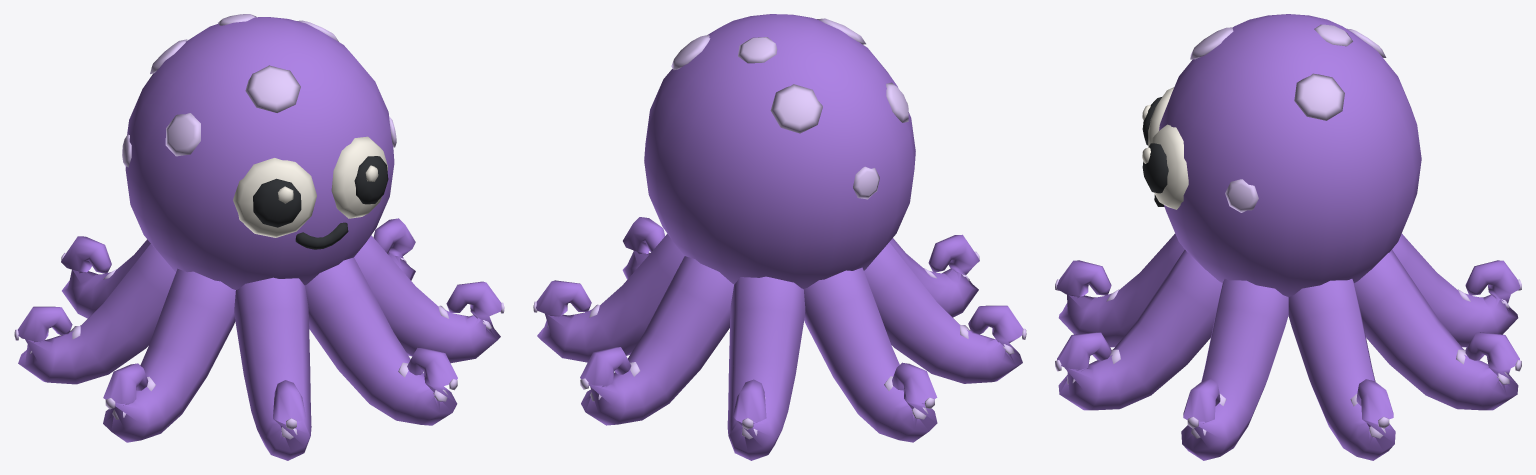
The model's file is cute-octopus-pet.glb.
3 views of the same model, side by side, from view 1: azimuth 30°, elevation 25°; view 2: azimuth 150°, elevation 25°; view 3: azimuth 270°, elevation 25° (orthographic).
Visible parts, largest first — view 1: OctopusPet; view 2: OctopusPet; view 3: OctopusPet.
Part boxes in pixels (bbox=[...]): OctopusPet: bbox=[14, 14, 504, 460]; OctopusPet: bbox=[533, 14, 1026, 460]; OctopusPet: bbox=[1055, 14, 1521, 460].
Size of the model in its own units: 2.6 by 2.16 by 2.6.
